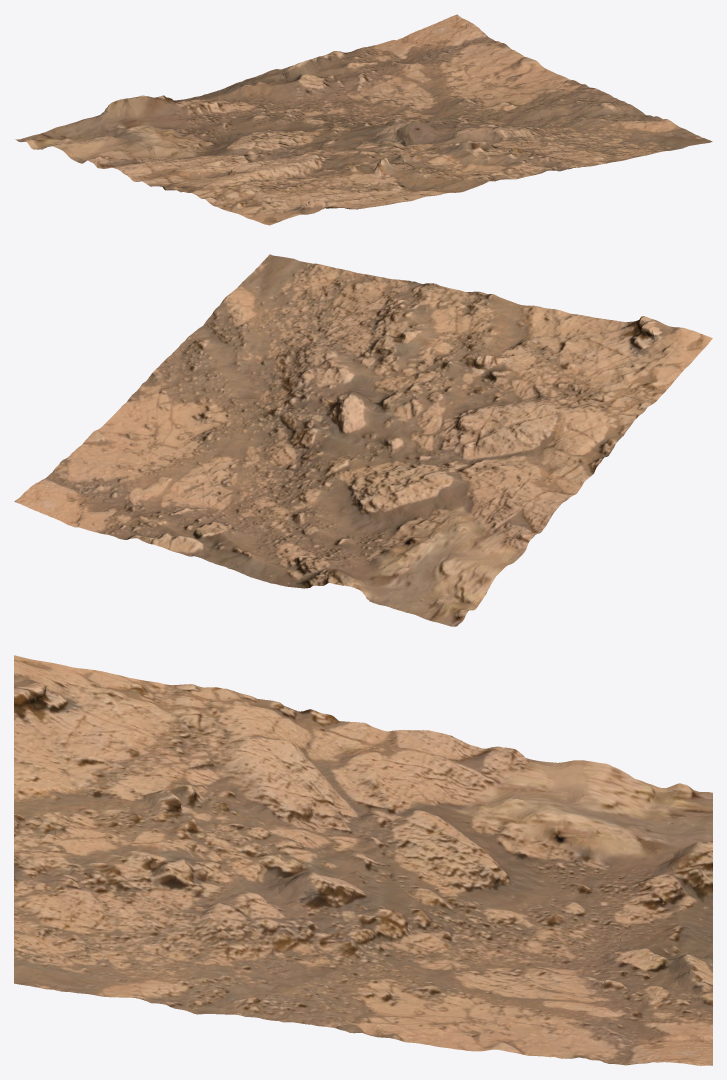
3 renders of one model, top to bottom at view 1: azimuth 30°, elevation 25°; view 2: azimuth 150°, elevation 25°; view 3: azimuth 270°, elevation 25°, orthographic. The views are drawn at different scales.
Size of the model in its own units: 2.09 by 0.4907 by 2.09.
3 materials, 3 textured.
